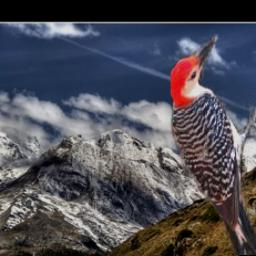Woodpecker: (171, 35, 256, 256)
